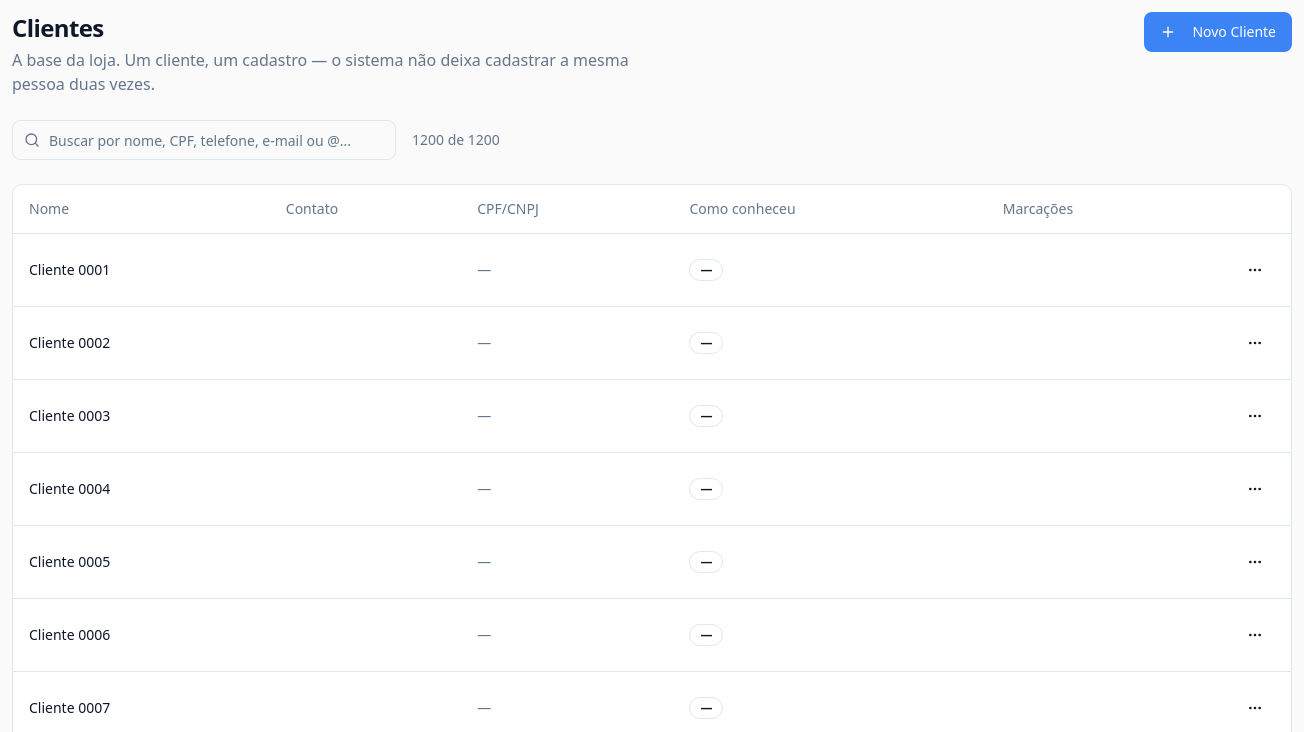
Test: Cadastros > Clientes: mais de mil clientes › conta todos e acha quem está depois do milésimo
Expected: the text "1200 de 1200" is shown, [412, 130, 500, 150]
Type "Cliente 1150" into the field with placeholder "Buscar por nome, CPF, telefone, e-mail ou @..." at (204, 140), box [12, 120, 396, 160]
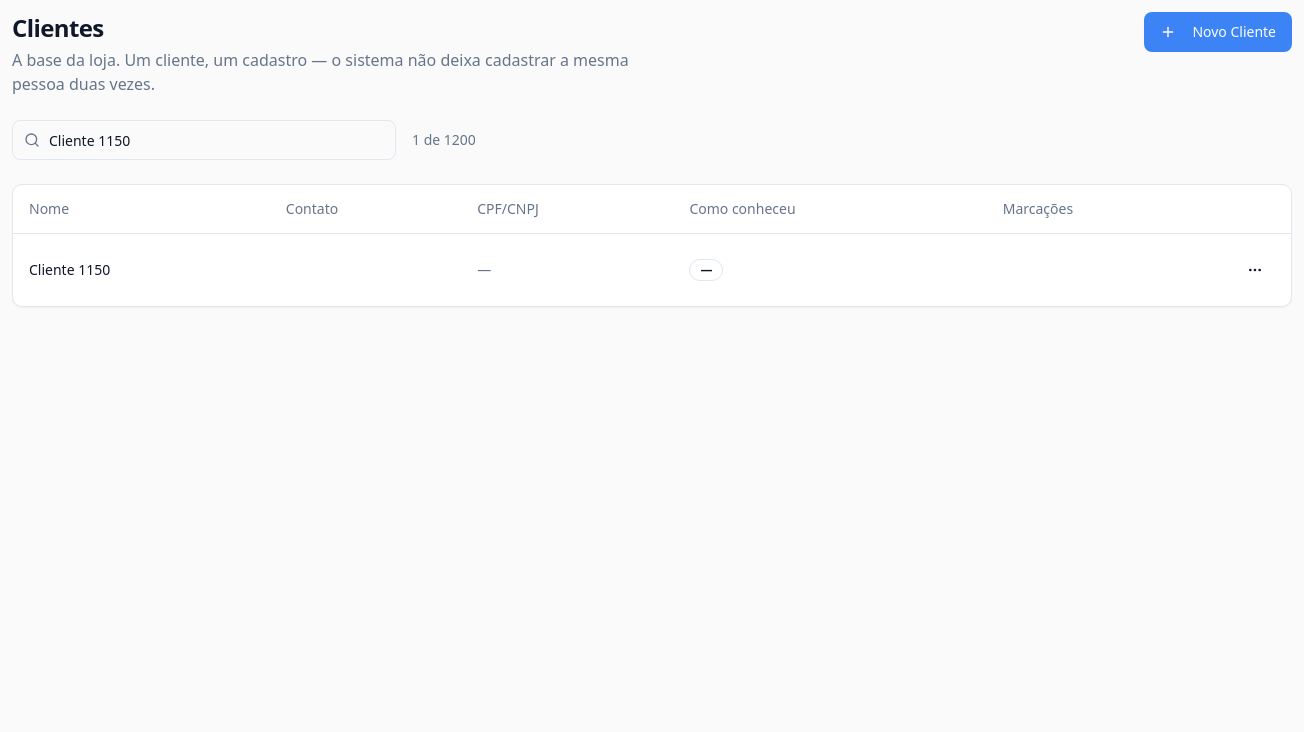
Result: the text "Cliente 1150" is shown at [29, 260, 110, 278]
